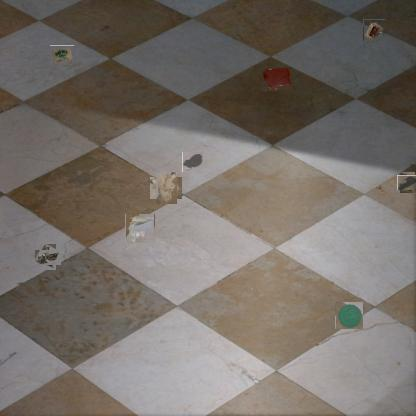dirty: (125, 214, 155, 243), (335, 301, 363, 329), (153, 174, 180, 202), (363, 19, 385, 41), (50, 45, 74, 64), (38, 246, 58, 268), (398, 173, 416, 191)
liquid: (262, 67, 292, 91), (182, 152, 203, 172)
